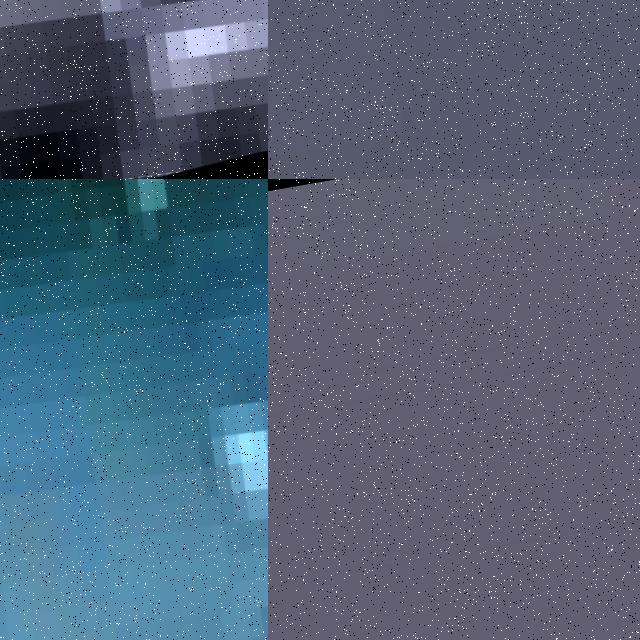0: (0, 0, 268, 179)
drone: (0, 179, 268, 640)
